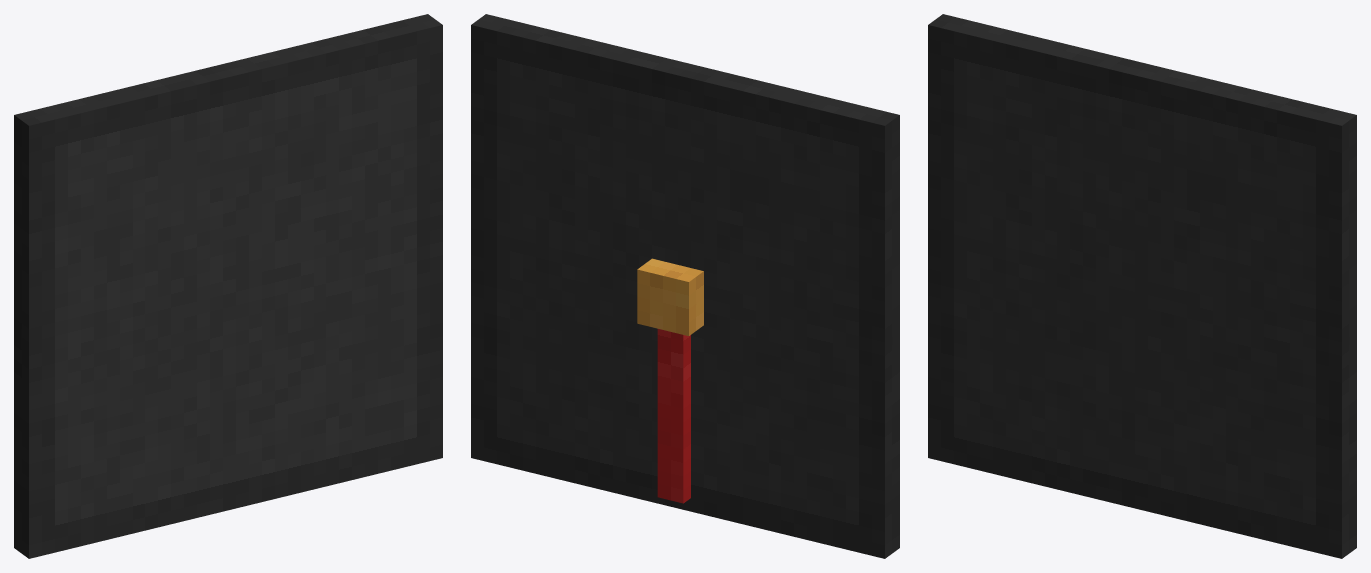
The model's file is Crank.fbx.
3 views of the same model, side by side, from view 1: azimuth 30°, elevation 25°; view 2: azimuth 150°, elevation 25°; view 3: azimuth 330°, elevation 25° (orthographic).
Visible parts, largest first — view 1: Base; view 2: Base, Handle; view 3: Base.
Boxes of the visible parts, <box> form: Base: <box>14,14,442,558</box>; Base: <box>471,14,899,558</box>; Handle: <box>637,258,703,503</box>; Base: <box>928,14,1356,558</box>.
Bounding box in the file's own units: 200 × 200 × 25.
